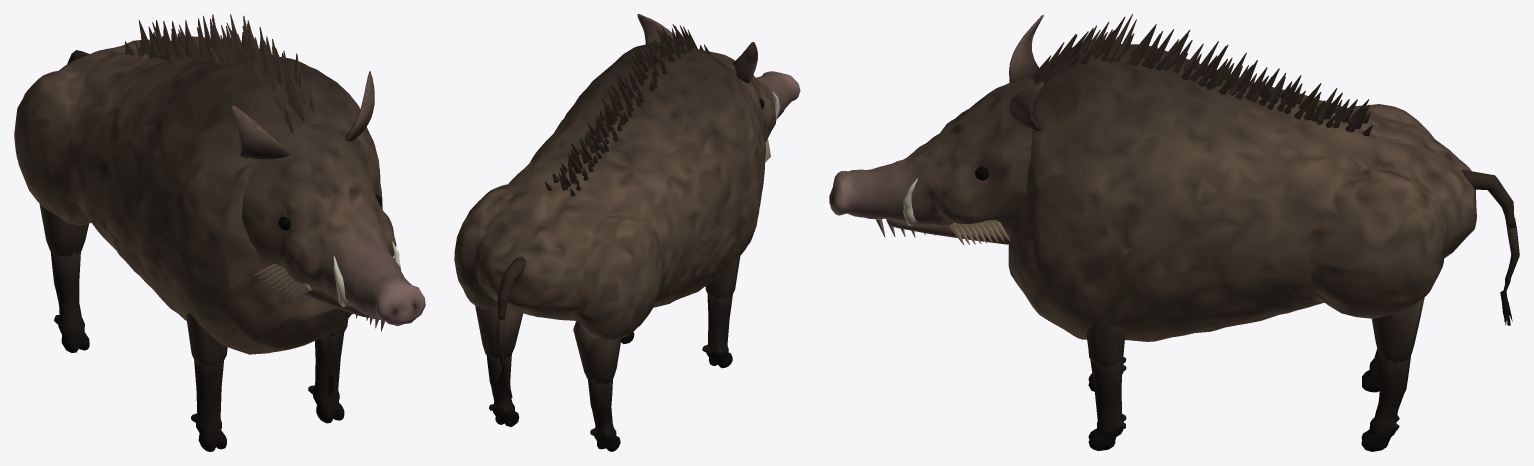
The model's file is boar.glb.
3 renders of one model, left to right at view 1: azimuth 30°, elevation 25°; view 2: azimuth 150°, elevation 25°; view 3: azimuth 270°, elevation 25°, orthographic. The views are drawn at different scales.
Visible parts, largest first — view 1: body_mesh, head_mesh, mane_mesh, leg_RN_lower_mesh, leg_FN_lower_mesh, leg_FP_lower_mesh, ear_N_mesh, leg_RN_upper_mesh, leg_FN_upper_mesh, headfur_mesh, ear_P_mesh, jaw_mesh; view 2: body_mesh, mane_mesh, head_mesh, leg_RN_upper_mesh, leg_FN_lower_mesh, leg_RP_upper_mesh, leg_RN_lower_mesh, leg_RP_lower_mesh, tail0_mesh, leg_FN_upper_mesh, ear_N_mesh, tail1_mesh (+1 smaller); view 3: body_mesh, head_mesh, mane_mesh, leg_RP_lower_mesh, leg_FP_lower_mesh, leg_RP_upper_mesh, leg_FP_upper_mesh, headfur_mesh, tail0_mesh, ear_N_mesh, ear_P_mesh, jaw_mesh (+1 smaller).
Part boxes in pixels (x1,y1,x2,y2): body_mesh: (14,36,382,354); head_mesh: (242,123,425,326); mane_mesh: (125,14,314,133); leg_RN_lower_mesh: (50,250,89,352); leg_FN_lower_mesh: (191,359,226,451); leg_FP_lower_mesh: (308,331,344,423); ear_N_mesh: (231,105,289,159); leg_RN_upper_mesh: (39,204,88,256); leg_FN_upper_mesh: (186,312,227,366); headfur_mesh: (253,264,384,331); ear_P_mesh: (345,71,374,141); jaw_mesh: (288,287,370,317); body_mesh: (454,41,765,340); mane_mesh: (545,24,710,196); head_mesh: (704,50,800,141); leg_RN_upper_mesh: (573,321,621,383); leg_FN_lower_mesh: (702,293,732,368); leg_RP_upper_mesh: (475,306,523,359); leg_RN_lower_mesh: (588,379,620,451); leg_RP_lower_mesh: (486,354,519,426); tail0_mesh: (497,256,525,319); leg_FN_upper_mesh: (705,253,740,298); ear_N_mesh: (733,42,757,83); tail1_mesh: (492,318,512,397); body_mesh: (1008,44,1476,341); head_mesh: (829,74,1034,236); mane_mesh: (1030,14,1372,135); leg_RP_lower_mesh: (1361,354,1410,451); leg_FP_lower_mesh: (1088,357,1126,450); leg_RP_upper_mesh: (1372,297,1424,362); leg_FP_upper_mesh: (1086,320,1125,366); headfur_mesh: (876,219,1010,244); tail0_mesh: (1461,170,1516,228); ear_N_mesh: (1009,15,1043,82); ear_P_mesh: (1009,82,1043,131); jaw_mesh: (889,218,1009,244).
Size of the model in its own units: 0.6448 by 1.11 by 1.72.
